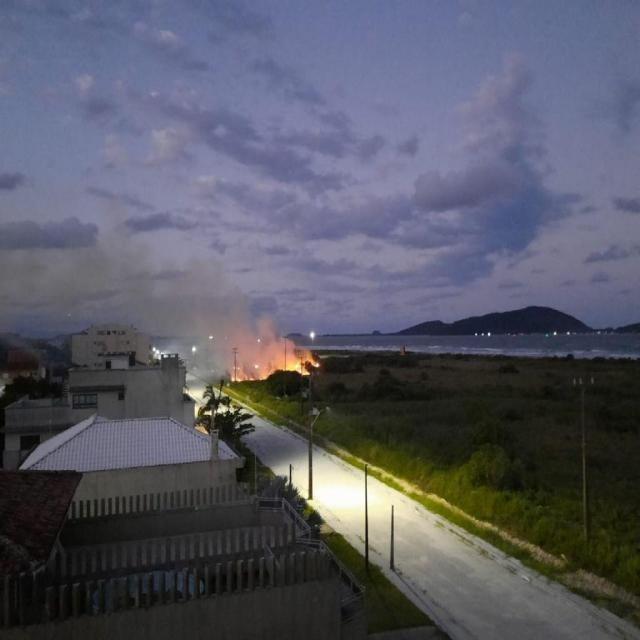Fire: (284, 358, 310, 376), (230, 375, 242, 385), (311, 360, 322, 368)
Smoke: (194, 270, 294, 368)
